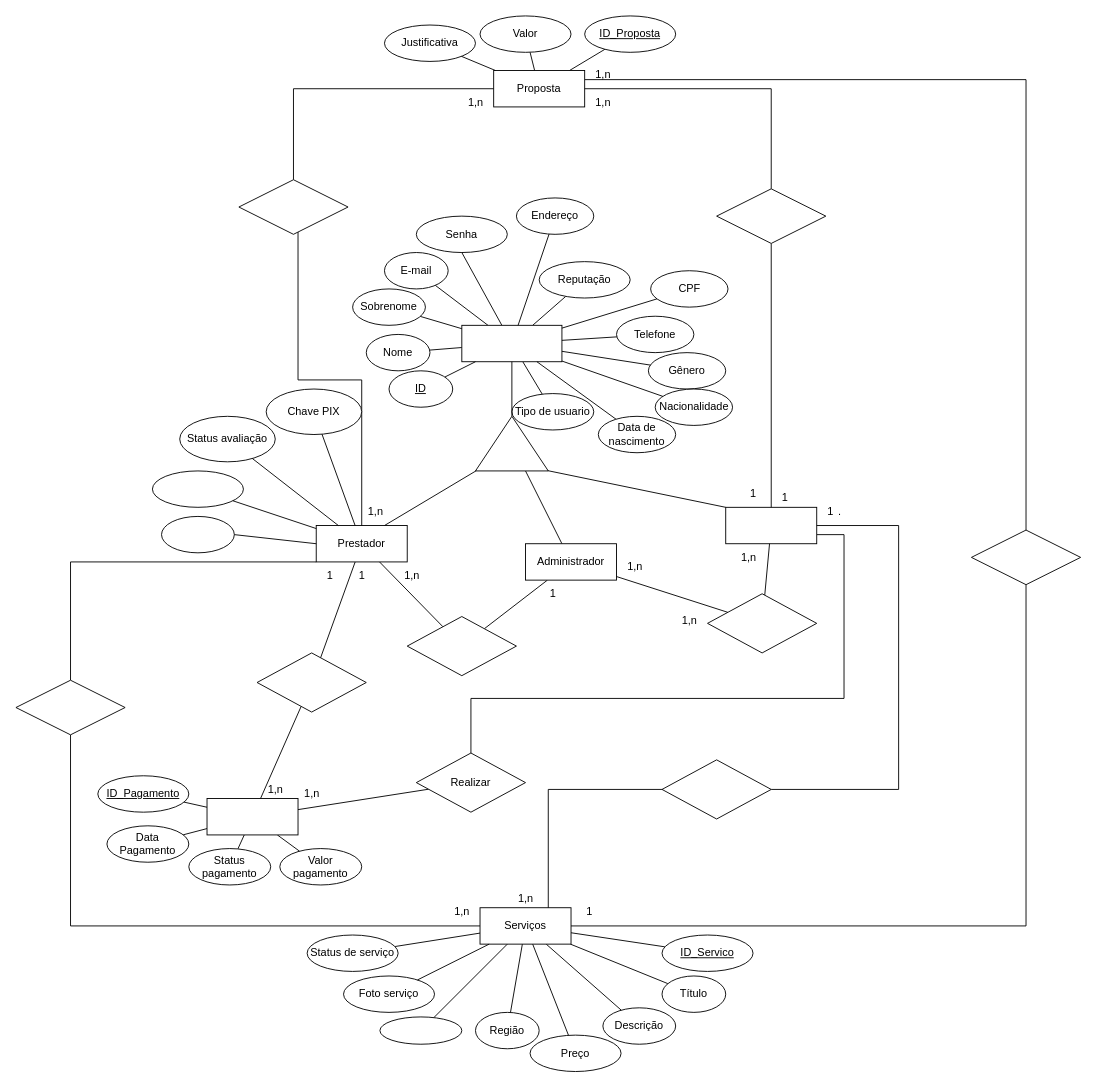
Image size: 1097x1087. Some labels were removed from this diagram. Here are the shapes that lost their labels. From the top down, the centre of each, then its label:
(x=293, y=206): Enviar
(x=771, y=215): Receber
(x=511, y=343): Usuário
(x=197, y=488): Imagem RG
(x=197, y=534): CNPJ
(x=771, y=525): Solicitante
(x=1026, y=557): Possui
(x=762, y=623): Gerenciar
(x=461, y=646): Avaliar
(x=311, y=682): Confirma
(x=70, y=707): Presta
(x=716, y=789): Solicitar
(x=252, y=816): Pagamento
(x=420, y=1030): Categoria
